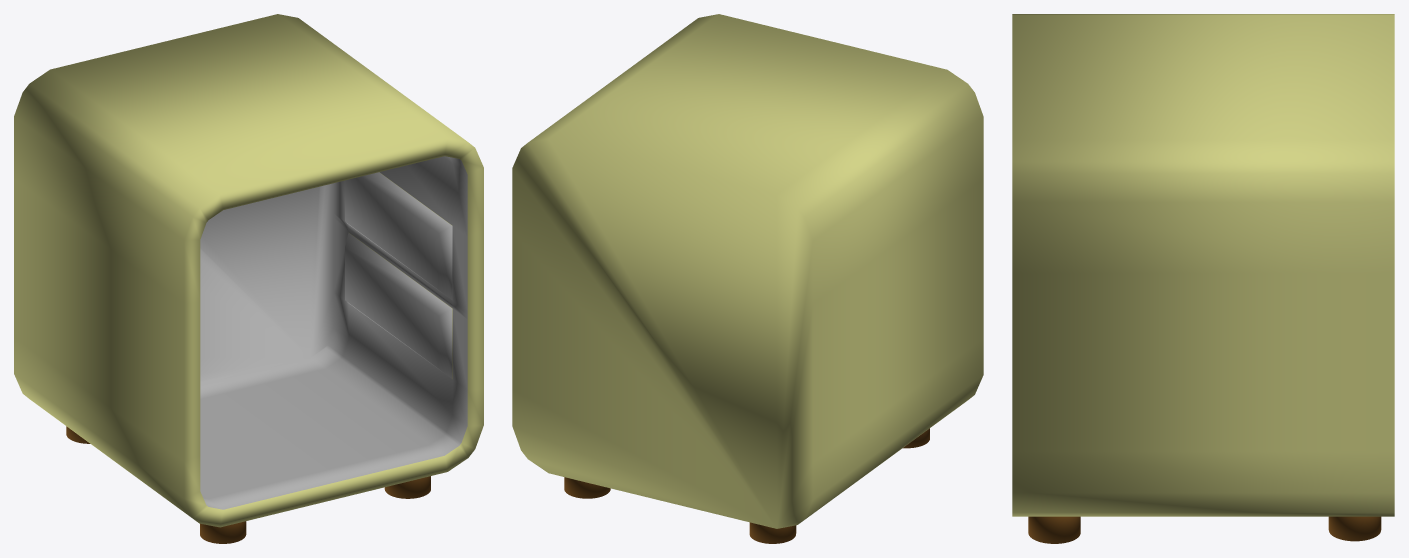
Rendered from oven.fbx.
3 views of the same model, side by side, from view 1: azimuth 30°, elevation 25°; view 2: azimuth 150°, elevation 25°; view 3: azimuth 270°, elevation 25° (orthographic). The views are drawn at different scales.
Parts seen in each view (by area): view 1: joinedoven; view 2: joinedoven; view 3: joinedoven.
Boxes of the visible parts, x1,y1,x2,y2 form: joinedoven: [14, 14, 483, 543]; joinedoven: [512, 14, 983, 543]; joinedoven: [1012, 14, 1394, 543].
Bounding box in the file's own units: 318 × 364 × 312.
